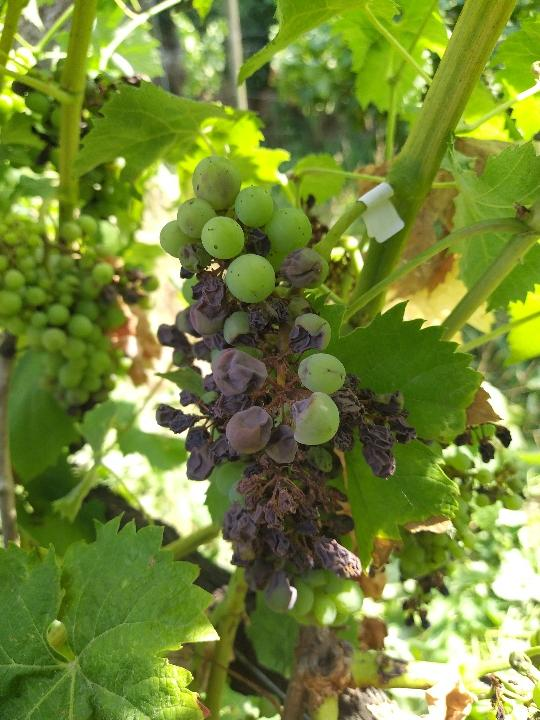grape: (150, 154, 420, 633)
